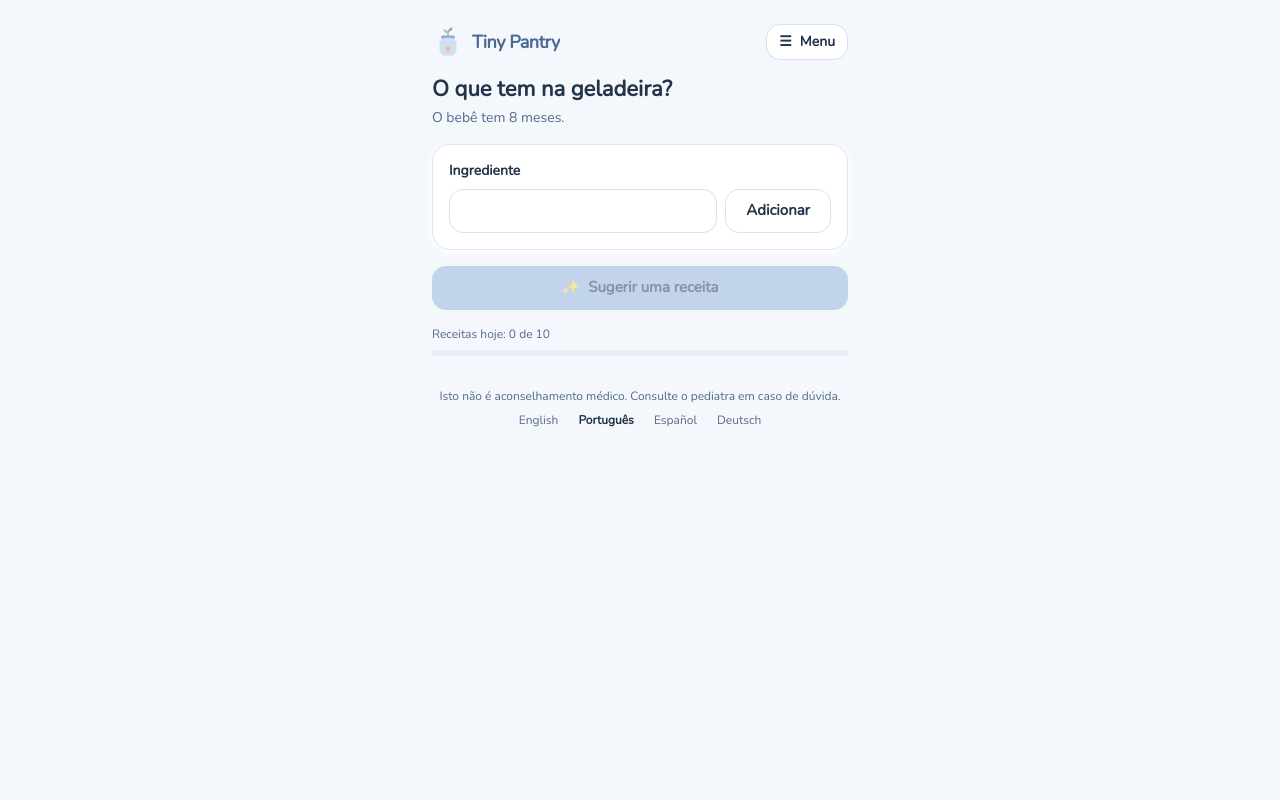
Test: the delete-account dialog is fully in pt
This screenshot has width=1280, height=800.
Click the button "☰ Menu" at (807, 42), box top-left (766, 24), bottom-right (848, 60)
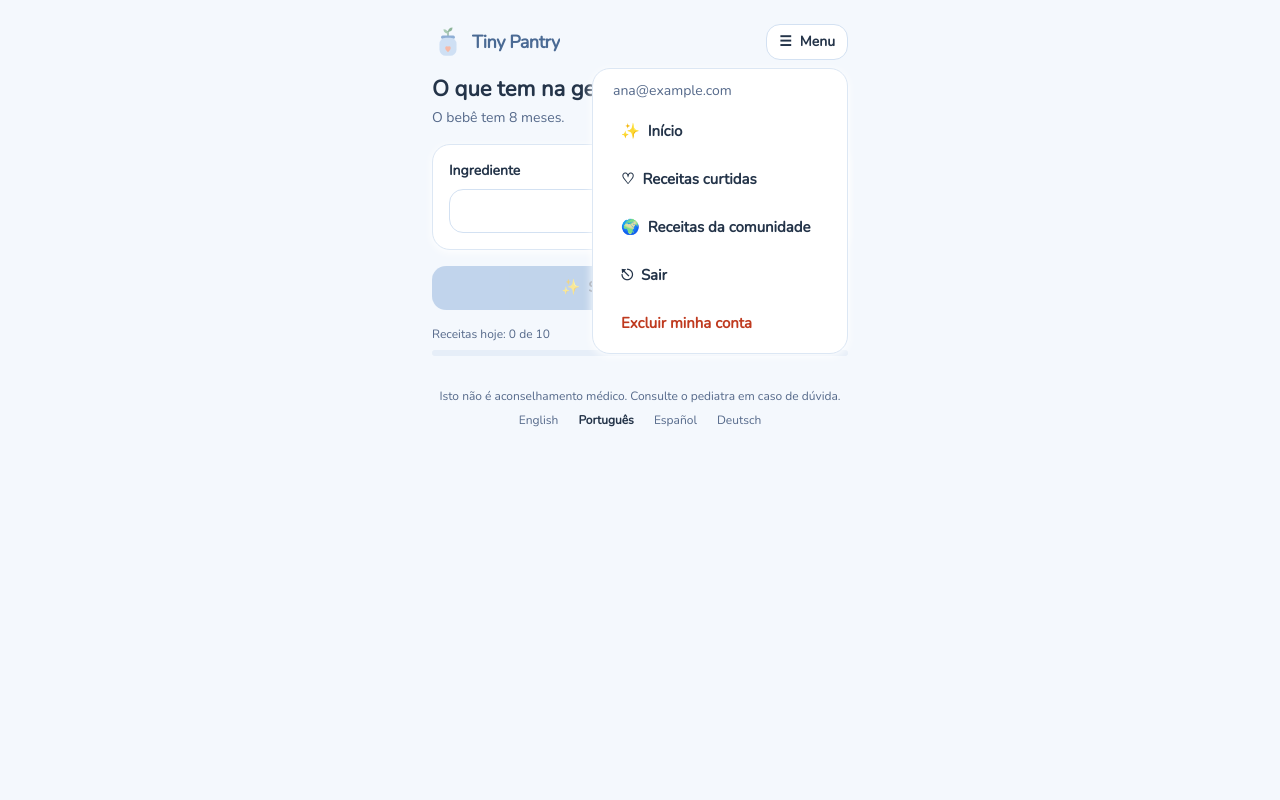
Click the button "Excluir minha conta" at (720, 323), box top-left (601, 301), bottom-right (839, 345)
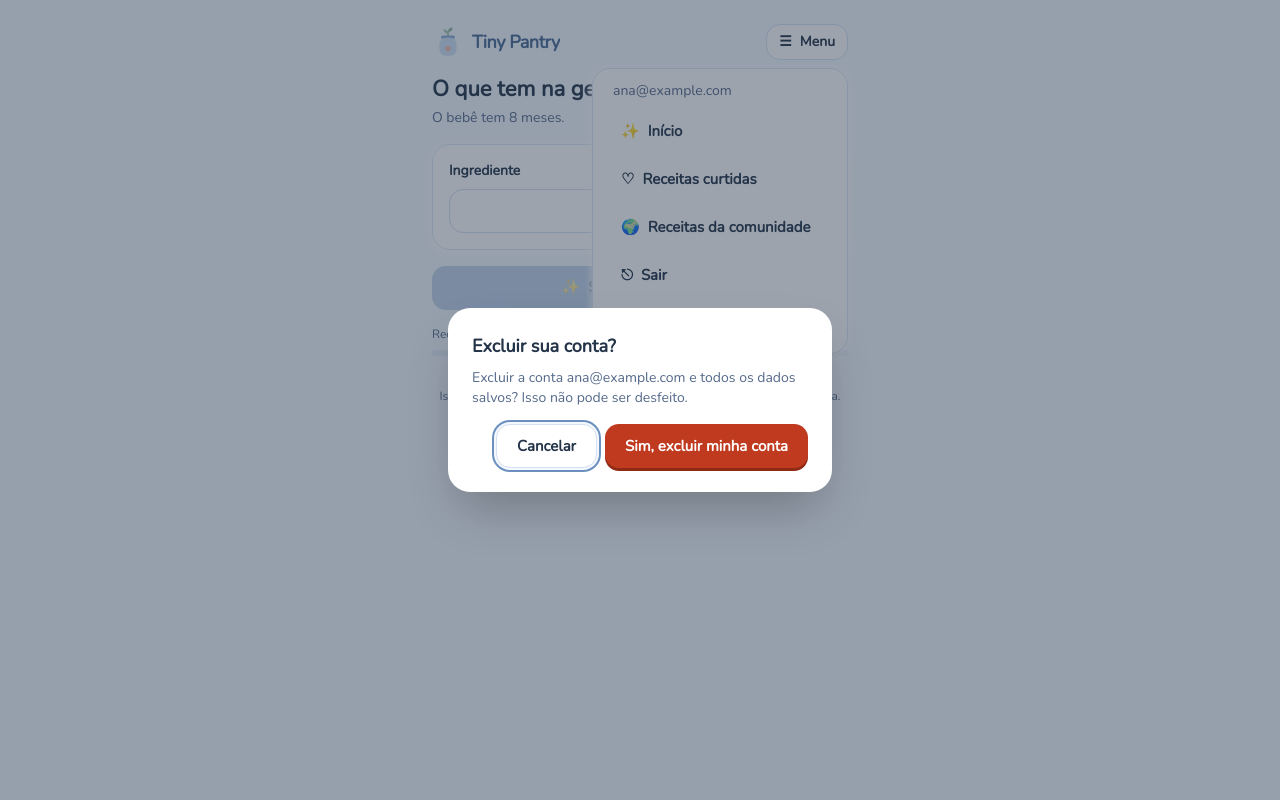
Now the button "Cancelar" is shown, box top-left (496, 424), bottom-right (597, 468)
Now the button "Sim, excluir minha conta" is shown, box top-left (605, 424), bottom-right (808, 468)
